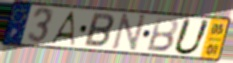3: (26, 6, 54, 46)
A: (48, 10, 77, 47)
B: (145, 17, 180, 54), (82, 12, 116, 49)
N: (110, 13, 148, 54)
U: (172, 17, 213, 57)
